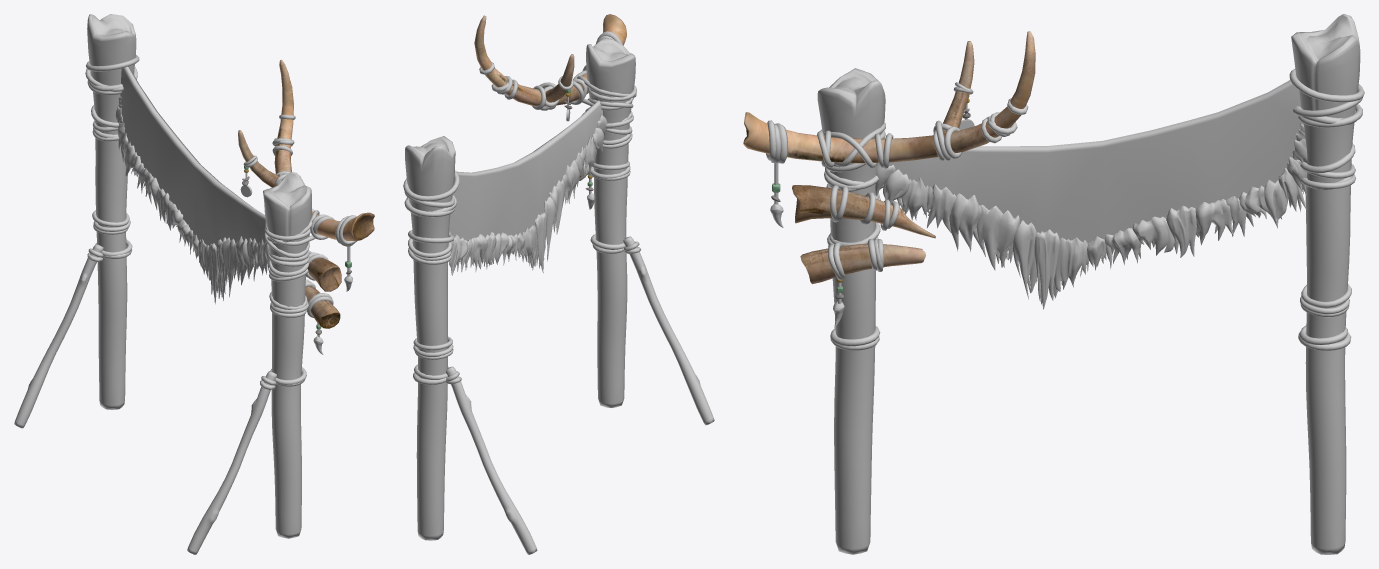
3 views of the same model, side by side, from view 1: azimuth 30°, elevation 25°; view 2: azimuth 150°, elevation 25°; view 3: azimuth 270°, elevation 25° (orthographic). The views are drawn at different scales.
Parts seen in each view (by area): view 1: SM_Garou_Banner_01_LOD0; view 2: SM_Garou_Banner_01_LOD0; view 3: SM_Garou_Banner_01_LOD0.
Boxes of the visible parts, x1,y1,x2,y2 form: SM_Garou_Banner_01_LOD0: [14, 14, 374, 554]; SM_Garou_Banner_01_LOD0: [403, 14, 714, 554]; SM_Garou_Banner_01_LOD0: [743, 14, 1364, 554].
Bounding box in the file's own units: 1.86 × 4.36 × 4.41.
